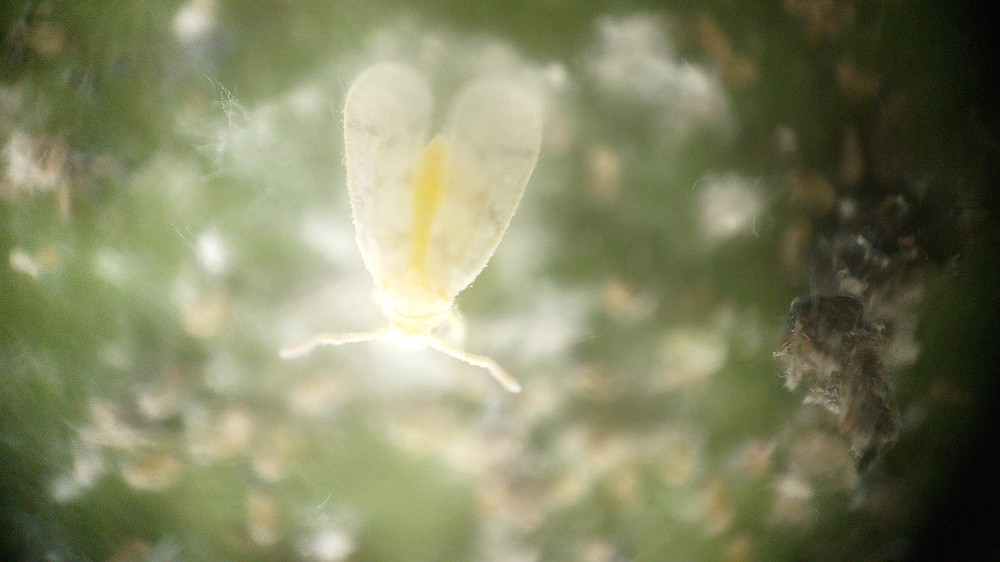Mosca Blanca: (251, 64, 633, 414)
